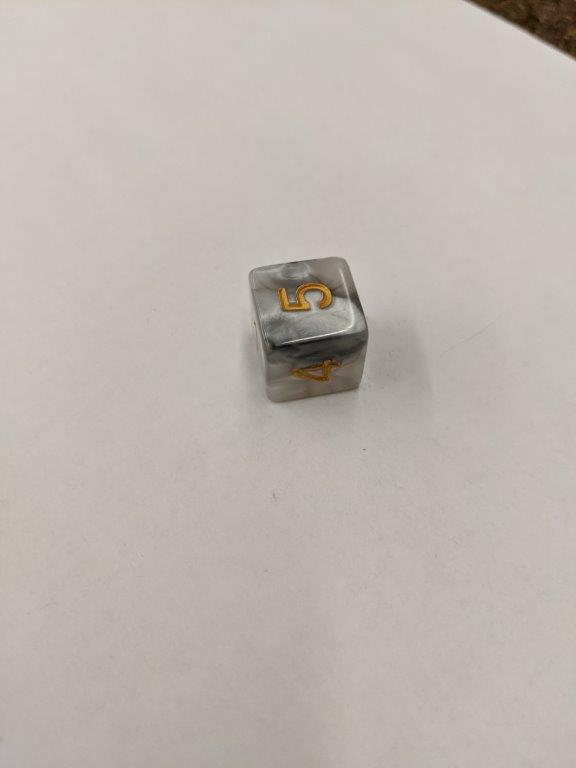d6-5: (248, 255, 368, 406)
